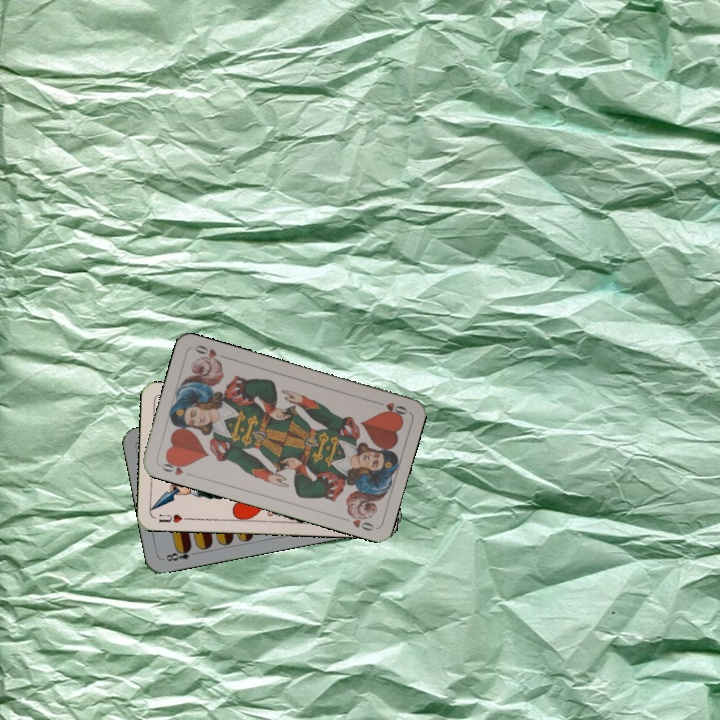E8: (162, 543, 200, 564)
HO: (370, 397, 410, 418), (156, 455, 190, 478)
HU: (155, 510, 192, 525)
